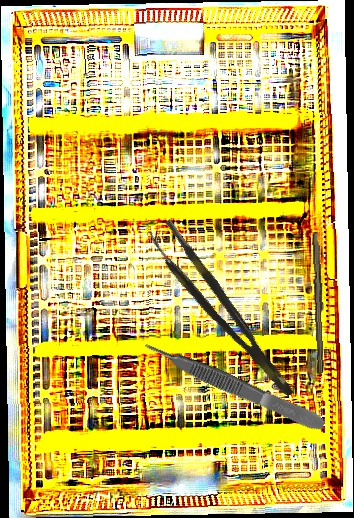Scalpel Handle: (309, 231, 329, 374)
Tissue Forceps: (145, 217, 297, 410), (141, 334, 328, 436)
